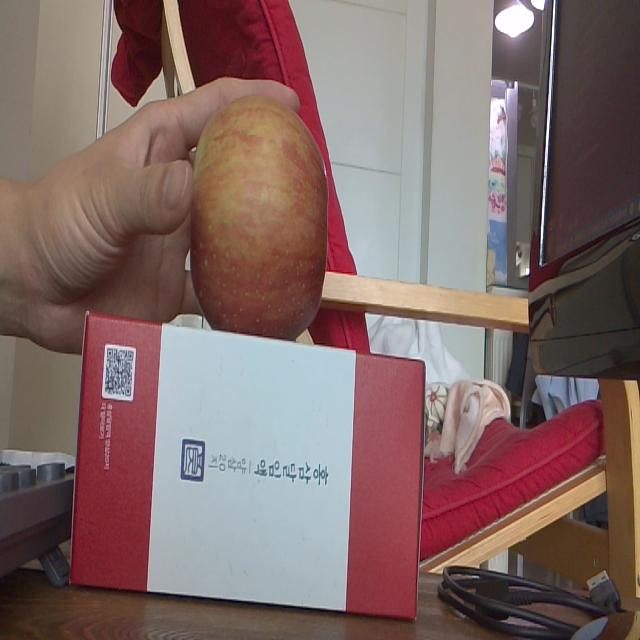apple: (189, 99, 333, 340)
